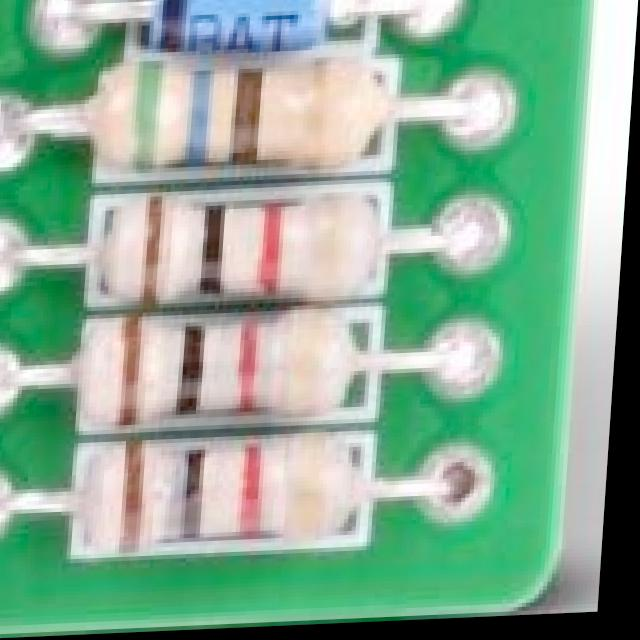diode: (129, 0, 456, 55)
resistor: (26, 40, 441, 199), (26, 437, 396, 578), (25, 317, 413, 446), (28, 193, 419, 308)
